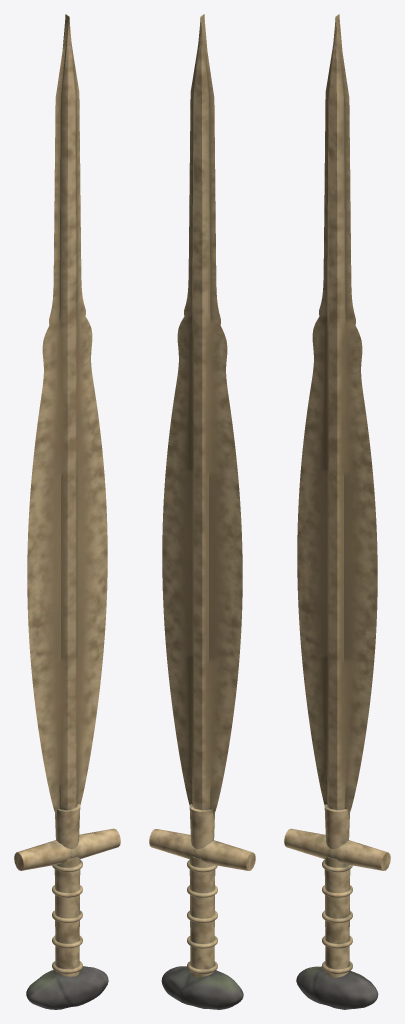
3 renders of one model, left to right at view 1: azimuth 30°, elevation 25°; view 2: azimuth 150°, elevation 25°; view 3: azimuth 330°, elevation 25°, orthographic.
Parts seen in each view (by area): view 1: metal_bronze, stone_dark; view 2: metal_bronze, stone_dark; view 3: metal_bronze, stone_dark.
Part boxes in pixels (bbox=[...]): metal_bronze: bbox=[14, 14, 120, 976]; stone_dark: bbox=[26, 966, 108, 1009]; metal_bronze: bbox=[149, 14, 255, 977]; stone_dark: bbox=[161, 966, 243, 1009]; metal_bronze: bbox=[284, 14, 390, 977]; stone_dark: bbox=[296, 966, 378, 1009].
Size of the model in its own units: 0.14 by 1.36 by 0.0575.
Materials: 2 (2 with a texture image).
